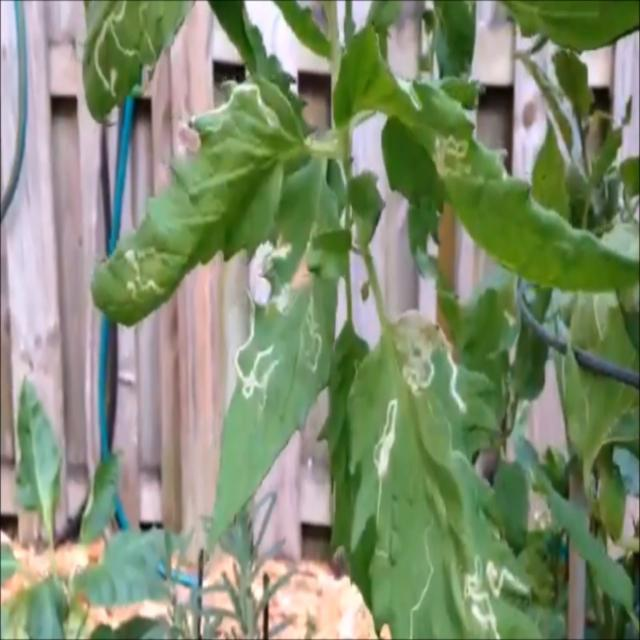Tomato target spot leaf: (348, 306, 545, 640), (93, 62, 304, 330), (397, 71, 640, 296), (212, 263, 340, 555), (82, 0, 194, 127)
